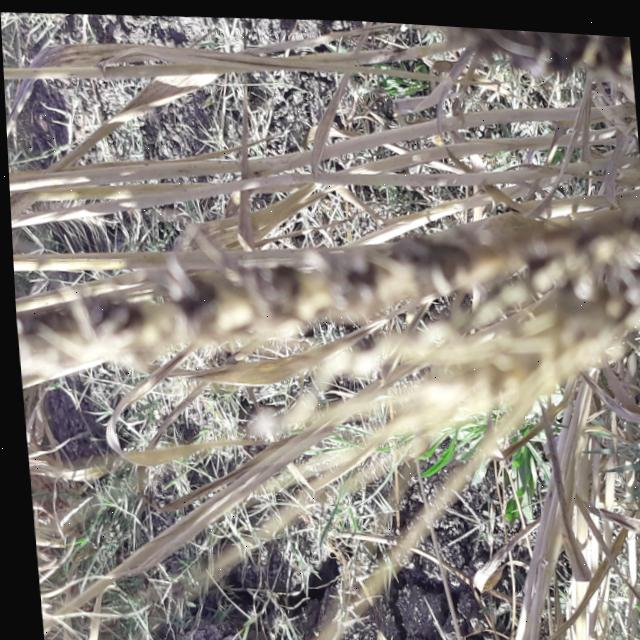loose_charred: (6, 149, 640, 507), (441, 21, 636, 121)
